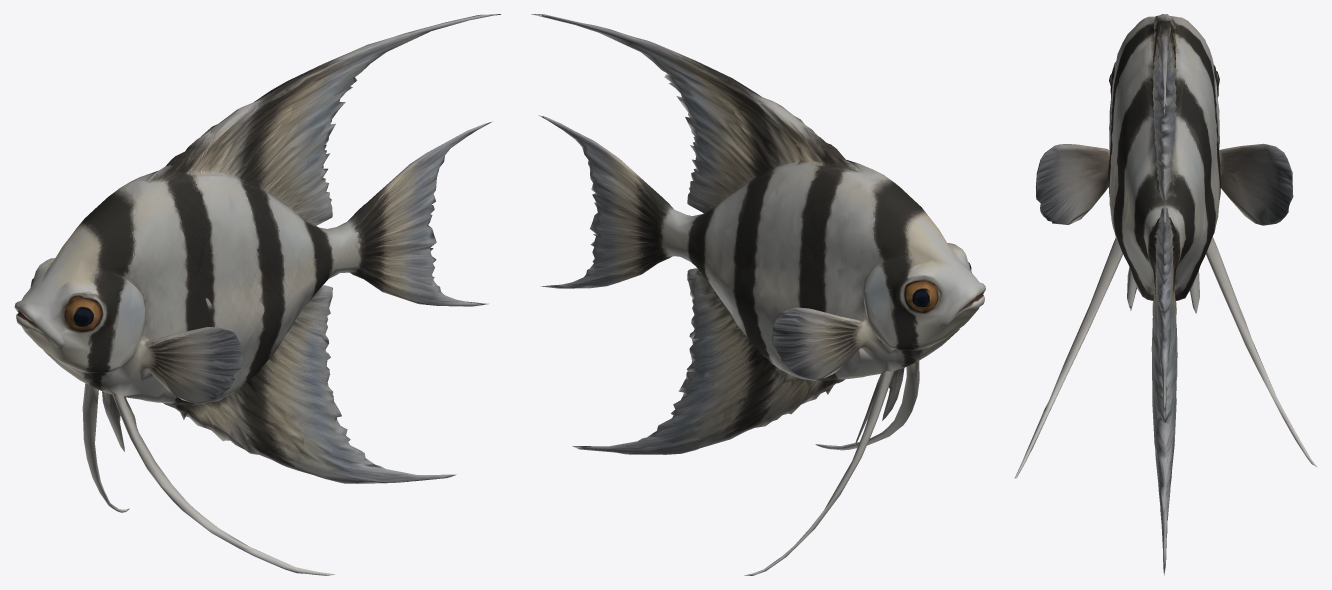
The model's file is fish-skalyariya.glb.
The picture shows the model from 3 angles, left to right: view 1: azimuth 30°, elevation 25°; view 2: azimuth 150°, elevation 25°; view 3: azimuth 270°, elevation 25°; orthographic projection. The views are drawn at different scales.
Visible parts, largest first — view 1: tripo_node_5526e988-25d1-458b-80d0-71be6d11148a; view 2: tripo_node_5526e988-25d1-458b-80d0-71be6d11148a; view 3: tripo_node_5526e988-25d1-458b-80d0-71be6d11148a.
Part boxes in pixels (box(x1,y1,x2,y2)): tripo_node_5526e988-25d1-458b-80d0-71be6d11148a: box(14, 14, 500, 575); tripo_node_5526e988-25d1-458b-80d0-71be6d11148a: box(531, 14, 985, 575); tripo_node_5526e988-25d1-458b-80d0-71be6d11148a: box(1014, 14, 1316, 575).
Size of the model in its own units: 1 by 0.9484 by 0.5072.
Materials: 1 (1 with a texture image).
